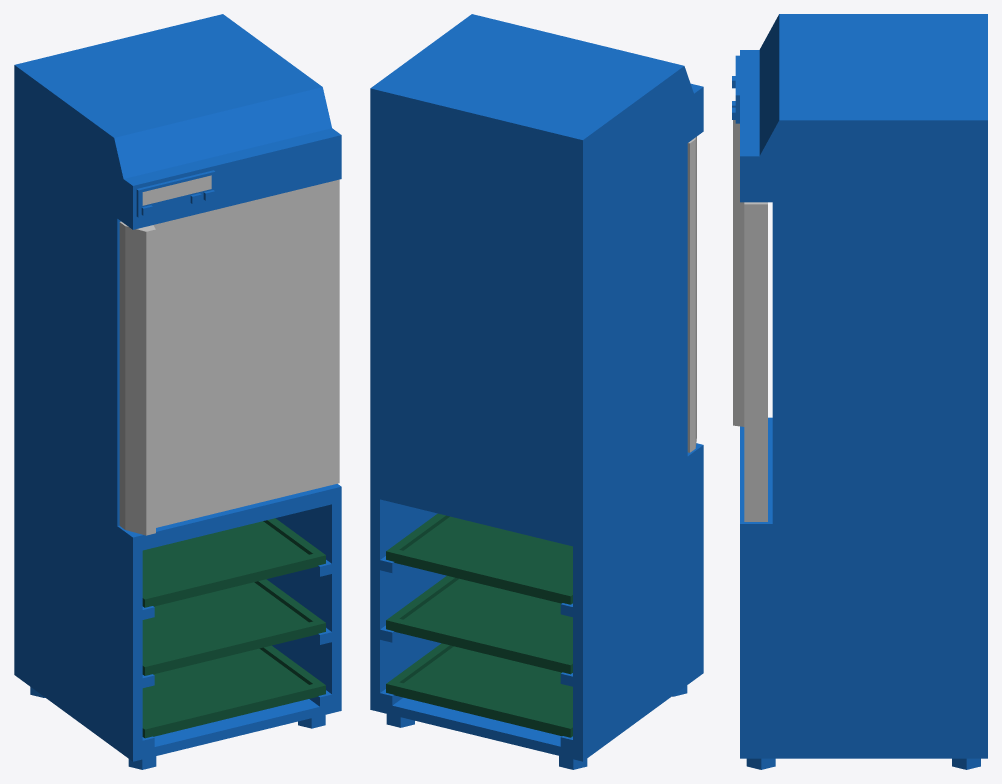
Rendered from T_refrigerator.fbx.
3 renders of one model, left to right at view 1: azimuth 30°, elevation 25°; view 2: azimuth 150°, elevation 25°; view 3: azimuth 270°, elevation 25°, orthographic. The views are drawn at different scales.
Visible parts, largest first — view 1: refrigerator, Cube; view 2: refrigerator, Cube; view 3: refrigerator, Cube.
Boxes of the visible parts, x1,y1,x2,y2 form: refrigerator: (14, 14, 341, 769); Cube: (119, 179, 339, 535); refrigerator: (370, 14, 703, 769); Cube: (687, 136, 696, 452); refrigerator: (732, 14, 987, 769); Cube: (733, 120, 767, 521).
Size of the model in its own units: 70 by 200 by 71.08.
